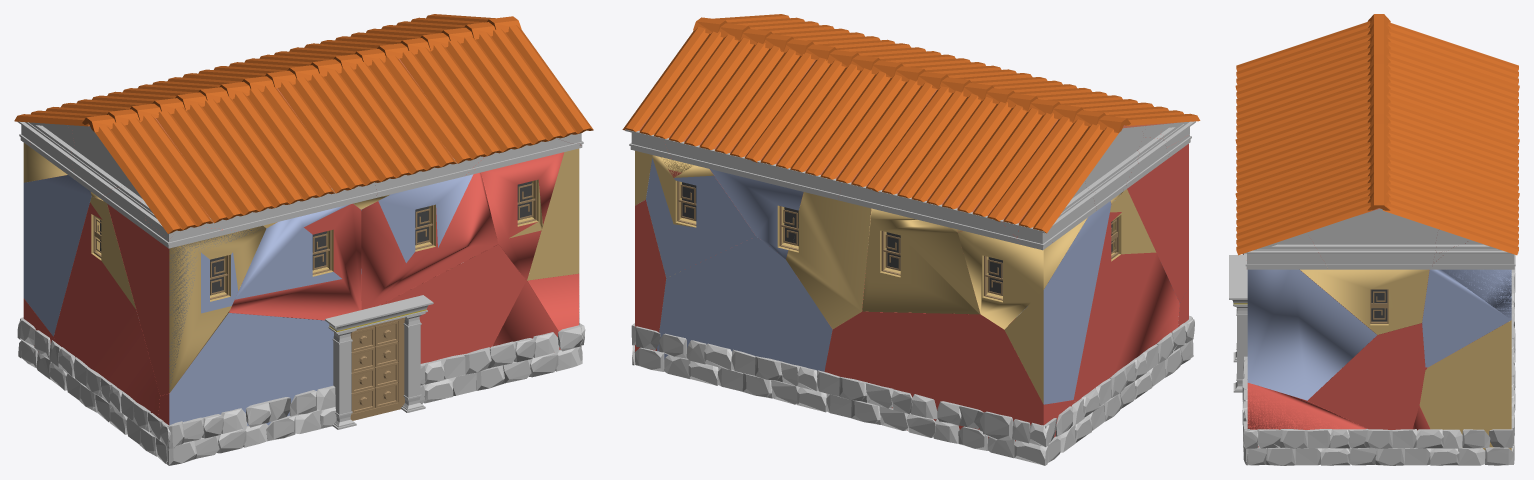
File: roman_villa_02_fragments.fbx
3 renders of one model, left to right at view 1: azimuth 30°, elevation 25°; view 2: azimuth 150°, elevation 25°; view 3: azimuth 270°, elevation 25°, orthographic. The views are drawn at different scales.
Visible parts, largest first — view 1: Object244_cell.001, Object244_cell.012, Object244_cell.017, Object244_cell.010, Object244_cell.007, Object244_cell.013, Object244_cell, Object244_cell.022, Object244.013, Object244_cell.015, Object244_cell.019, Object244.001_cell.013 (+41 smaller); view 2: Object244_cell.014, Object244_cell.008, Object244_cell.010, Object244_cell, Object244_cell.025, Object244_cell.016, Object244_cell.020, Object244_cell.011, Object244_cell.001, Object244_cell.024, Object244.001_cell.015, Object244.001_cell.005 (+43 smaller); view 3: Object244_cell.015, Object244_cell.009, Object244_cell.005, Object244_cell.003, Object244.001_cell.011, Object244_cell.028, Object244_cell.019, Object244.001_cell.017, Object244.001_cell.004, Object244.079, Object244.072, Object244.016 (+78 smaller).
Boxes of the visible parts, x1,y1,x2,y2 form: Object244_cell.001: [107, 204, 266, 395]; Object244_cell.012: [158, 313, 333, 428]; Object244_cell.017: [361, 172, 498, 309]; Object244_cell.010: [53, 196, 159, 416]; Object244_cell.007: [229, 203, 361, 320]; Object244_cell.013: [380, 244, 525, 363]; Object244_cell: [23, 175, 91, 336]; Object244_cell.022: [481, 152, 563, 280]; Object244.013: [350, 317, 404, 420]; Object244_cell.015: [527, 148, 579, 280]; Object244_cell.019: [492, 273, 579, 349]; Object244.001_cell.013: [67, 118, 181, 198]; Object244_cell.014: [824, 311, 1075, 441]; Object244_cell.008: [657, 236, 832, 371]; Object244_cell.010: [1073, 189, 1179, 402]; Object244_cell: [1004, 201, 1111, 404]; Object244_cell.025: [862, 208, 980, 314]; Object244_cell.016: [786, 192, 871, 329]; Object244_cell.020: [646, 155, 755, 277]; Object244_cell.011: [958, 218, 1087, 329]; Object244_cell.001: [1127, 144, 1188, 302]; Object244_cell.024: [710, 169, 803, 259]; Object244.001_cell.015: [661, 83, 848, 200]; Object244.001_cell.005: [838, 164, 1020, 244]; Object244_cell.015: [1247, 269, 1376, 400]; Object244_cell.009: [1307, 323, 1425, 429]; Object244_cell.005: [1419, 320, 1511, 450]; Object244_cell.003: [1422, 269, 1511, 367]; Object244.001_cell.011: [1307, 208, 1439, 269]; Object244_cell.028: [1300, 269, 1429, 334]; Object244_cell.019: [1247, 383, 1366, 447]; Object244.001_cell.017: [1244, 232, 1328, 269]; Object244.001_cell.004: [1431, 238, 1518, 269]; Object244.079: [1383, 203, 1518, 255]; Object244.072: [1236, 202, 1372, 255]; Object244.016: [1235, 148, 1370, 199].
Bounding box in the file's own units: 1286 × 843 × 836.
